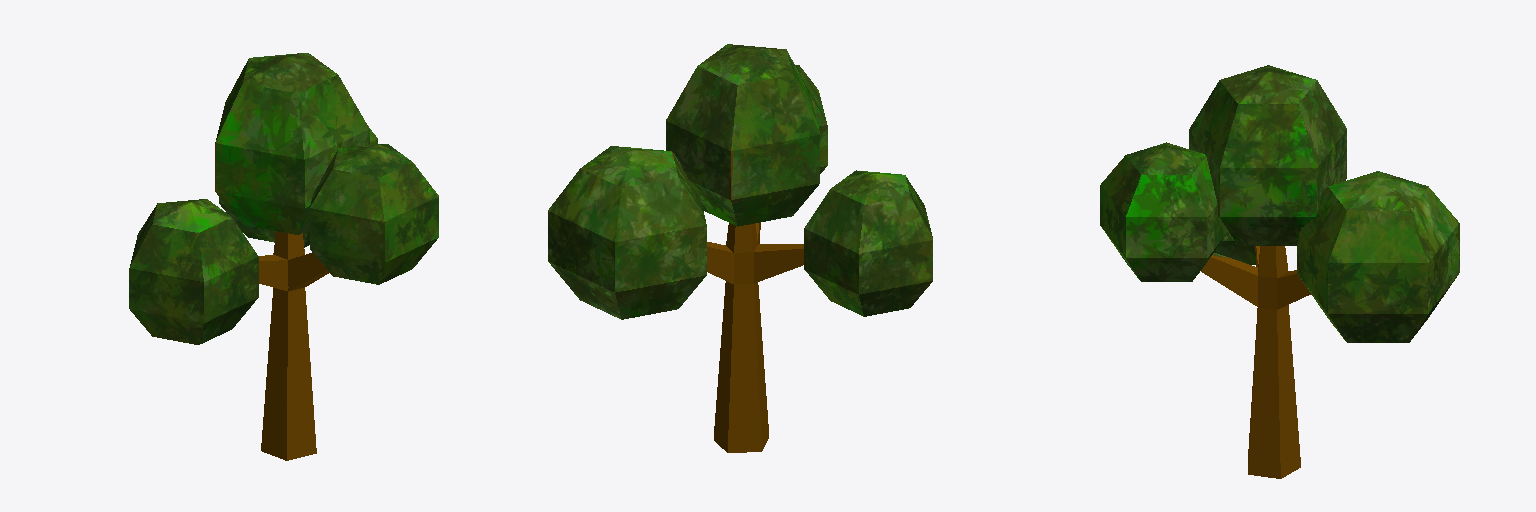
The picture shows the model from 3 angles: view 1: azimuth 30°, elevation 25°; view 2: azimuth 150°, elevation 25°; view 3: azimuth 270°, elevation 25°; orthographic projection.
Parts seen in each view (by area): view 1: Leaf_Sphere.002; view 2: Leaf_Sphere.002; view 3: Leaf_Sphere.002.
Boxes of the visible parts, x1,y1,x2,y2 form: Leaf_Sphere.002: [129, 53, 438, 460]; Leaf_Sphere.002: [548, 44, 932, 452]; Leaf_Sphere.002: [1100, 65, 1459, 478].
Size of the model in its own units: 10.06 by 12.96 by 10.71.
Materials: 1 (1 with a texture image).